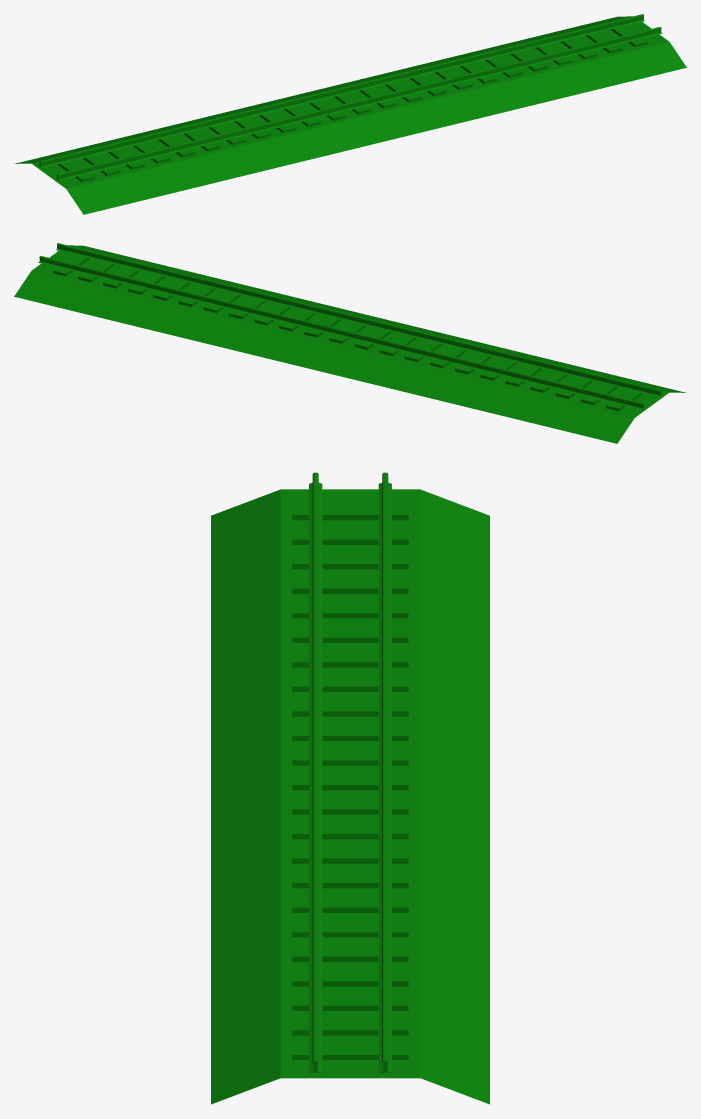
Rendered from railroad track.obj.
3 renders of one model, top to bottom at view 1: azimuth 30°, elevation 25°; view 2: azimuth 150°, elevation 25°; view 3: azimuth 270°, elevation 25°, orthographic. The views are drawn at different scales.
Visible parts, largest first — view 1: Plane; view 2: Plane; view 3: Plane.
Boxes of the visible parts, box(x1,y1,x2,y2) form: Plane: box(14, 14, 686, 214); Plane: box(14, 243, 686, 443); Plane: box(211, 472, 489, 1104).
Size of the model in its own units: 24 by 0.8206 by 4.8.
